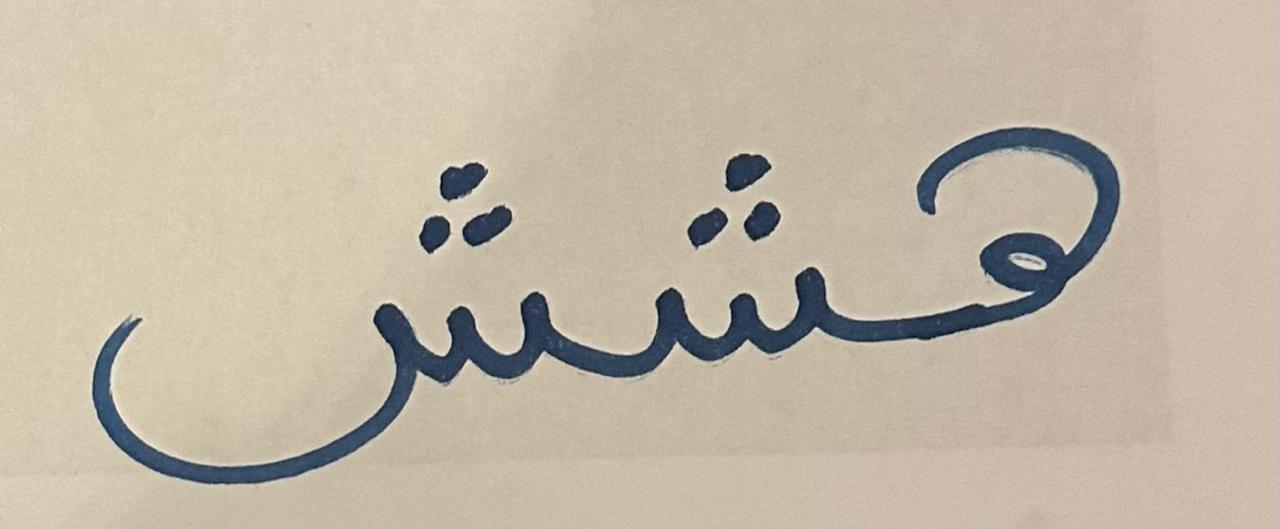jeem: (872, 48, 1170, 418)
tah: (39, 61, 566, 504), (574, 124, 864, 475)
